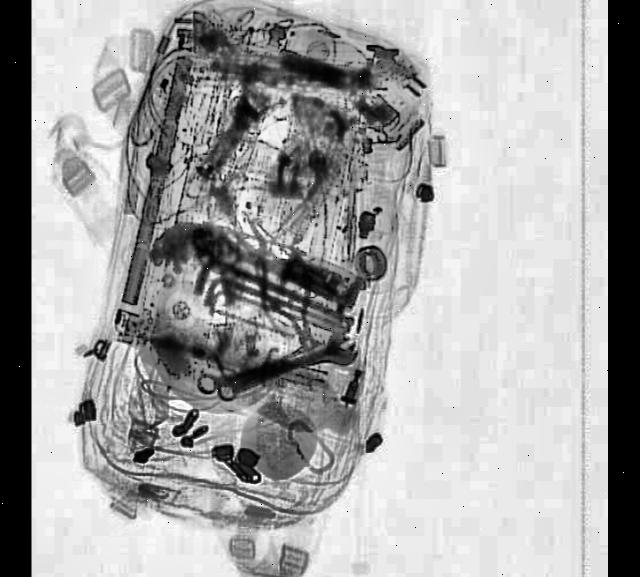Wrench: (196, 325, 359, 410), (219, 327, 362, 414)
